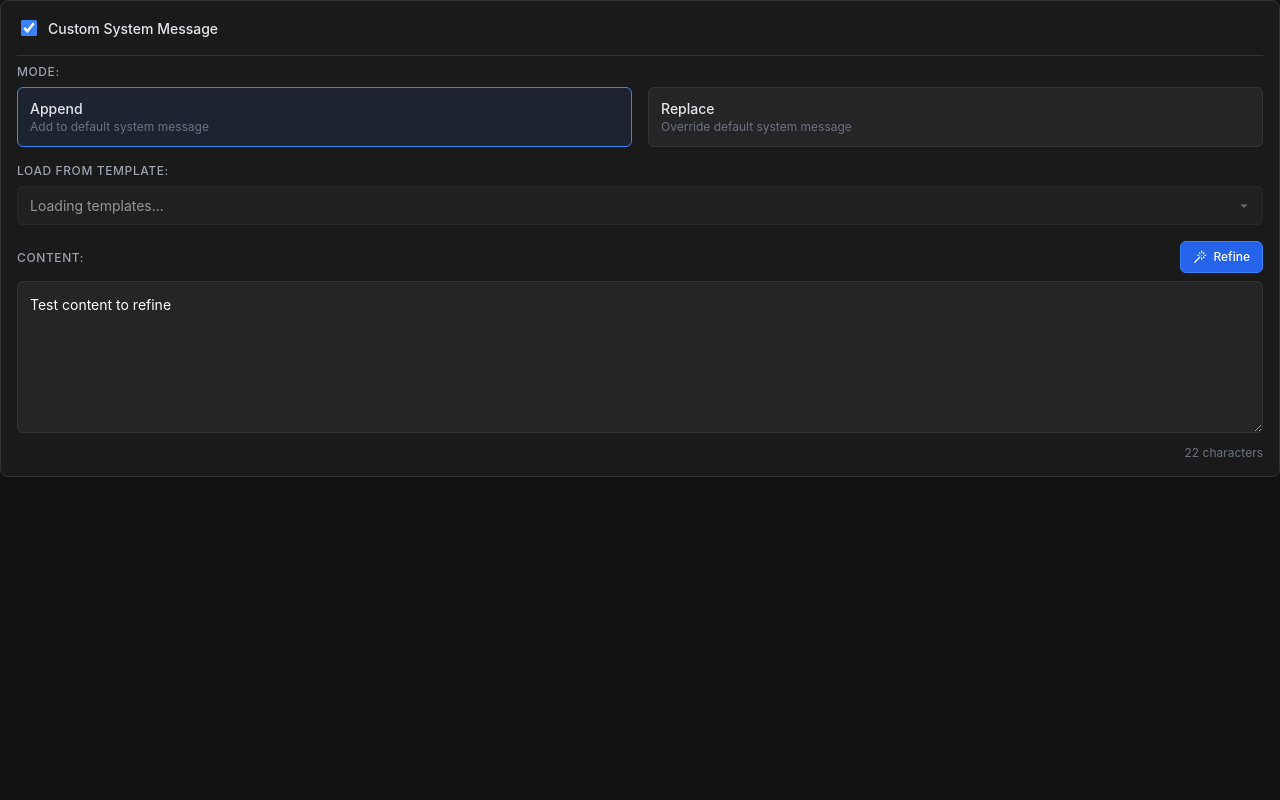
Scenario: SystemMessageEditor › refine button › handles API errors gracefully
The width and height of the screenshot is (1280, 800).
Click the button with test id "refine-button". click: (1222, 257)
box: [1180,241,1263,273]
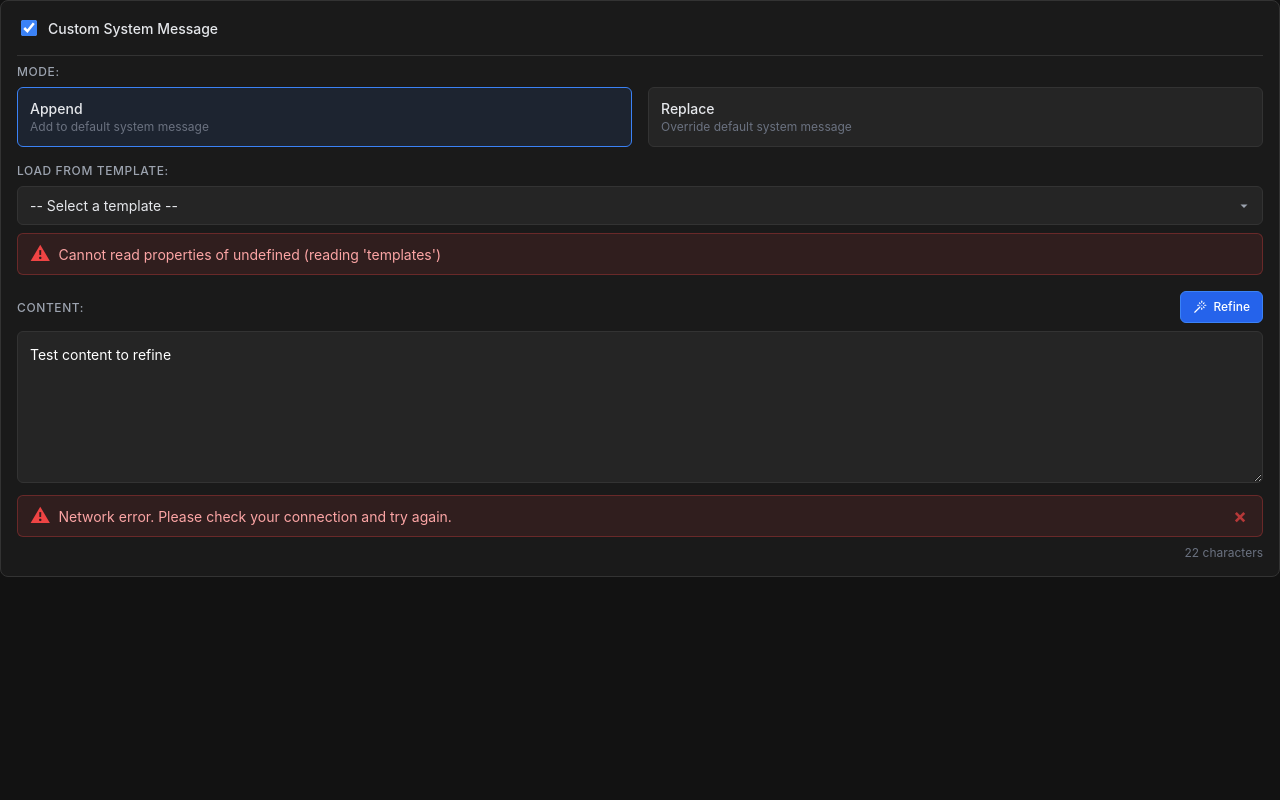
Now the message "⚠ Network error. Please check your connection and try again. ×" is shown, box [17,495,1263,537]
Now the text "Network error. Please check your connection and try again." is shown, box [58,508,452,524]
